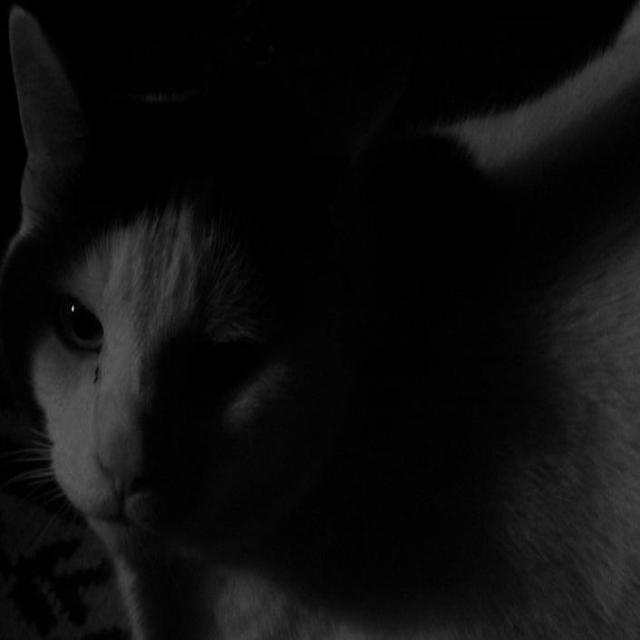Cat: (5, 3, 640, 640)
